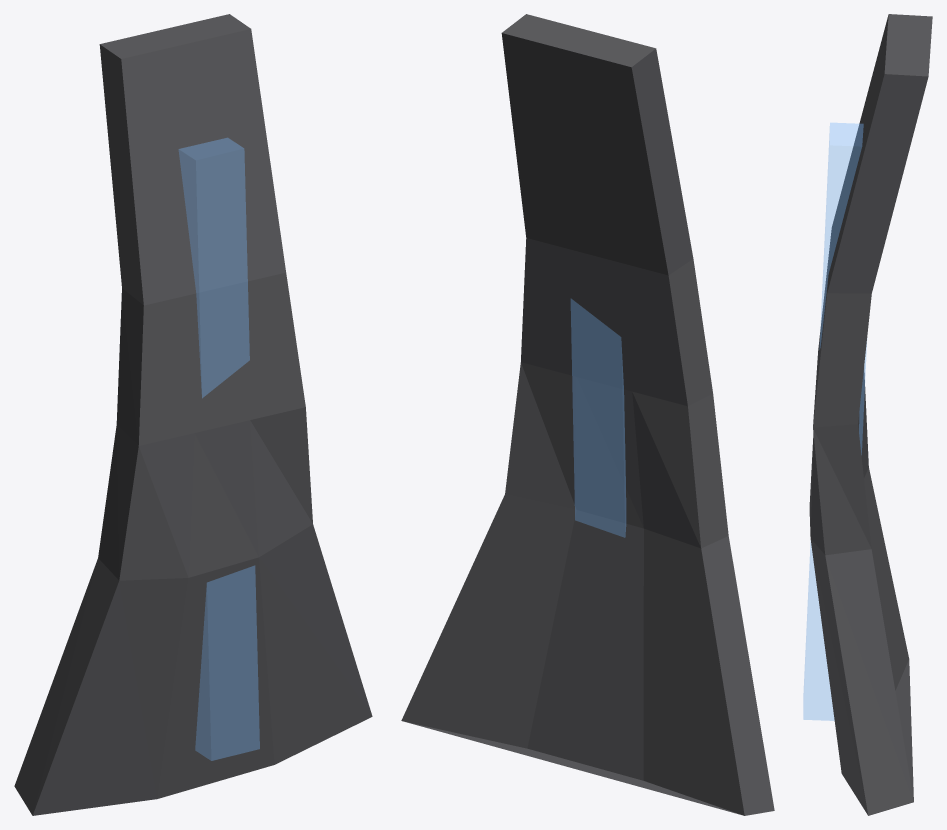
Rendered from HighlandLongshingle_boned.glb.
The picture shows the model from 3 angles, left to right: view 1: azimuth 30°, elevation 25°; view 2: azimuth 150°, elevation 25°; view 3: azimuth 270°, elevation 25°; orthographic projection. The views are drawn at different scales.
Visible parts, largest first — view 1: Highland_Longshingle_shell, shinglebone; view 2: Highland_Longshingle_shell, shinglebone; view 3: Highland_Longshingle_shell, shinglebone.
Part boxes in pixels (x1,y1,x2,y2): Highland_Longshingle_shell: (14,14,372,815); shinglebone: (178,138,259,760); Highland_Longshingle_shell: (401,14,774,815); shinglebone: (571,299,625,537); Highland_Longshingle_shell: (809,14,932,815); shinglebone: (803,123,866,720).
Size of the model in its own units: 0.5644 by 1.14 by 0.1902.
